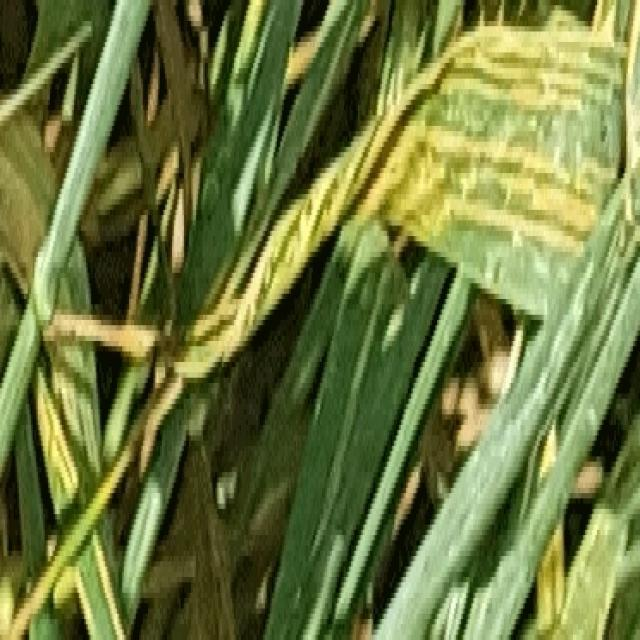Yellow_Rust: (302, 29, 599, 268)
